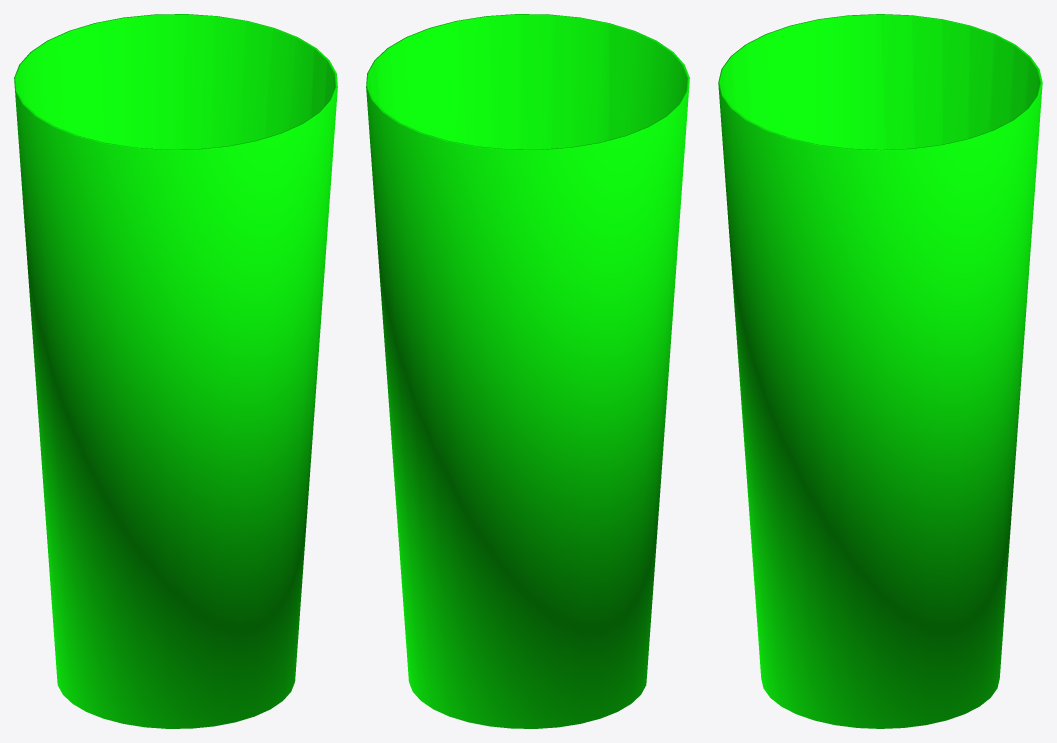
Rendered from green_cup.glb.
3 renders of one model, left to right at view 1: azimuth 30°, elevation 25°; view 2: azimuth 150°, elevation 25°; view 3: azimuth 270°, elevation 25°, orthographic.
Parts seen in each view (by area): view 1: Cylinder_Cylinder.003; view 2: Cylinder_Cylinder.003; view 3: Cylinder_Cylinder.003.
Part boxes in pixels (x1,y1,x2,y2): Cylinder_Cylinder.003: [14, 14, 337, 728]; Cylinder_Cylinder.003: [366, 14, 689, 728]; Cylinder_Cylinder.003: [718, 14, 1042, 728].
Bounding box in the file's own units: 2.13 × 4.31 × 2.13.
